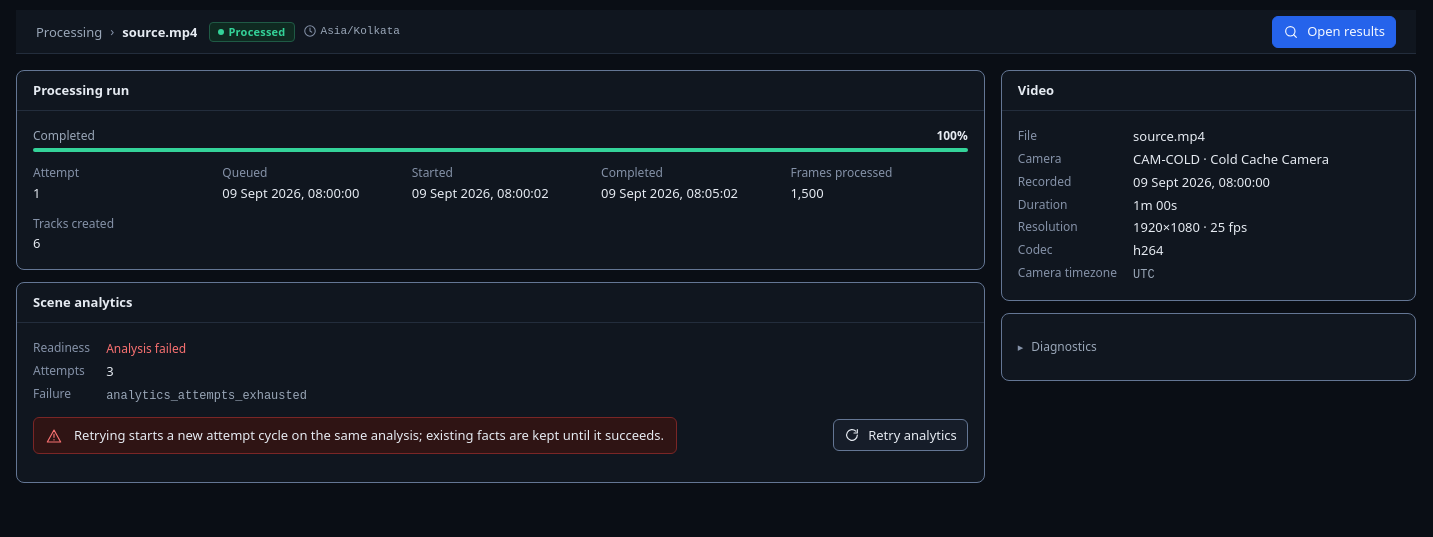
Test: ProcessingPage › scene analytics readiness (Slice 4) › says what could not be retried when the analytics retry is refused, then the API detail and code
Click the button "Retry analytics" at (900, 435), box [833,419,968,451]
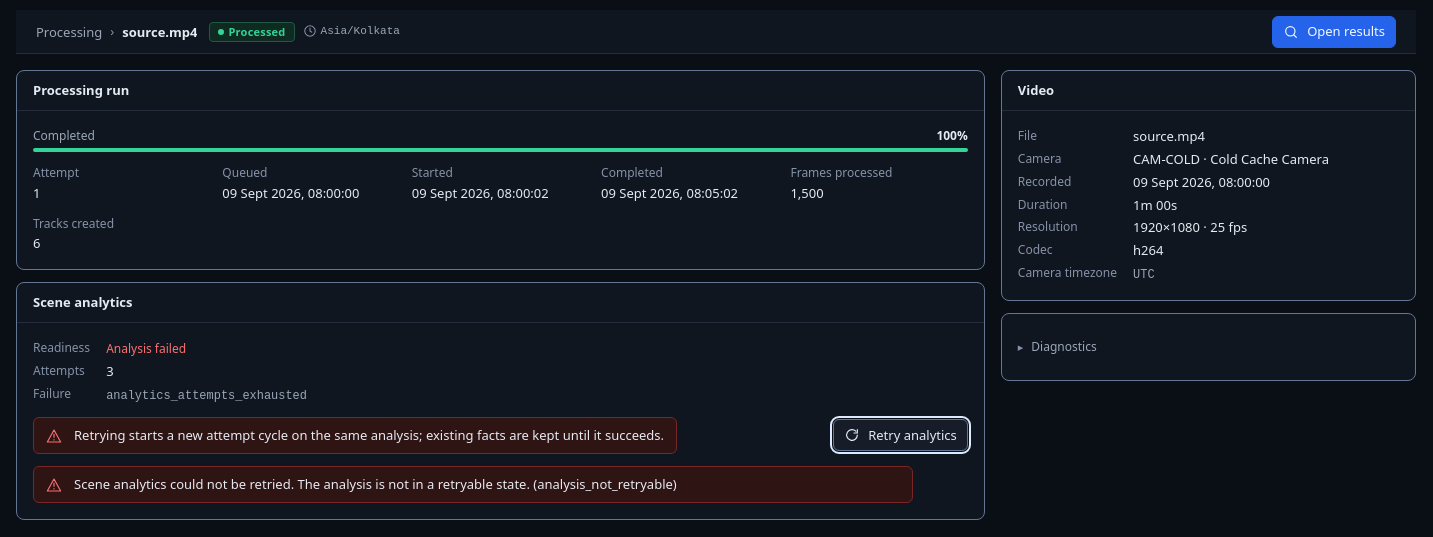
Expected: the text "Scene analytics could not be retried. The analysis is not in a retryable state. (analysis_not_retryable)" is shown, [74,475,677,493]
